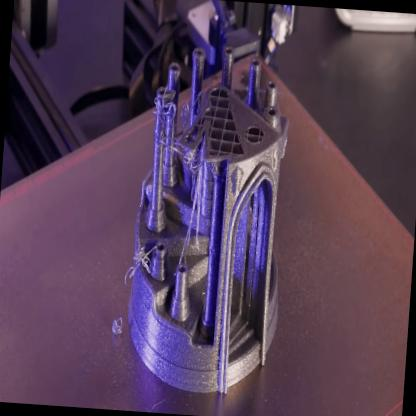fail: (124, 240, 155, 282), (183, 152, 203, 184), (176, 100, 192, 136)
